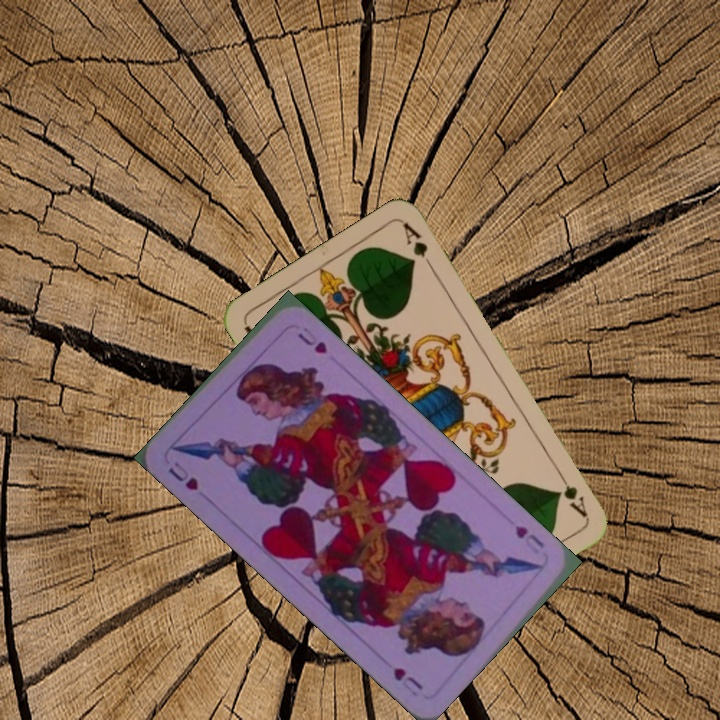GA: (553, 466, 591, 520)
HU: (510, 521, 548, 561), (163, 457, 201, 494)
